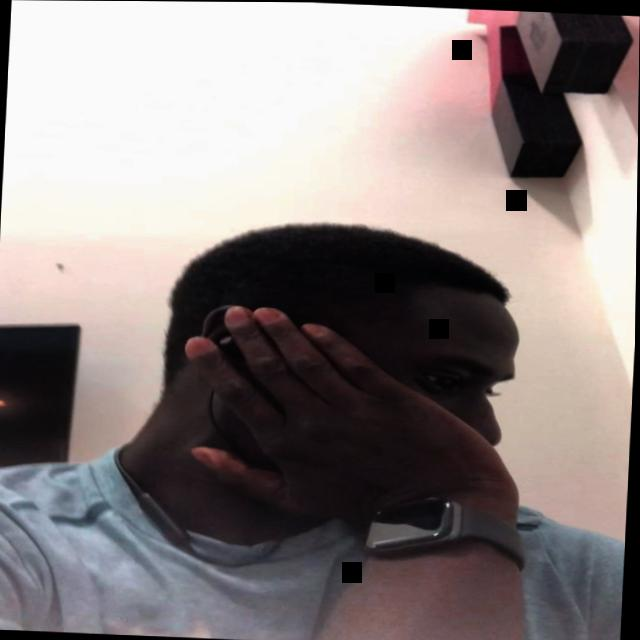NO-Mask: (233, 293, 521, 487)
